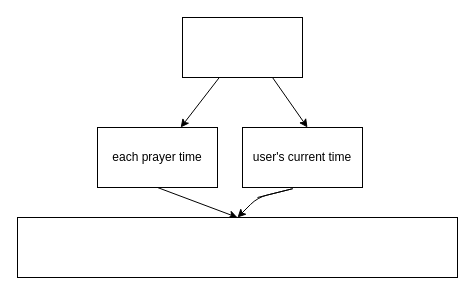
Some shapes in this 475 by 295 pixel diagram are drawn without their labels. Each missing label, with the box of its shape:
if current time between duhr and asr then the next prayer is asr: (16, 216, 458, 278)
Timer: (182, 16, 302, 78)
